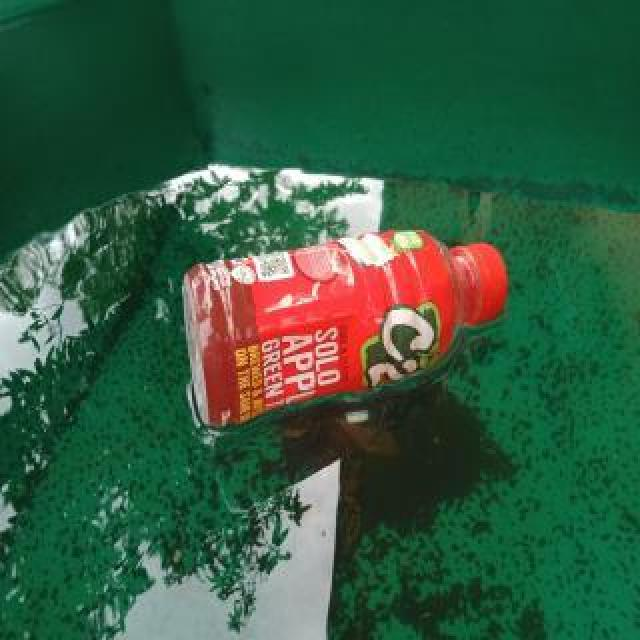bottle: (183, 228, 511, 432)
